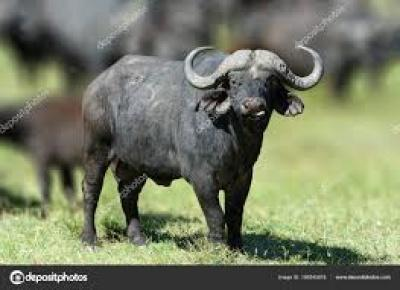buffalo: (0, 47, 323, 248)
